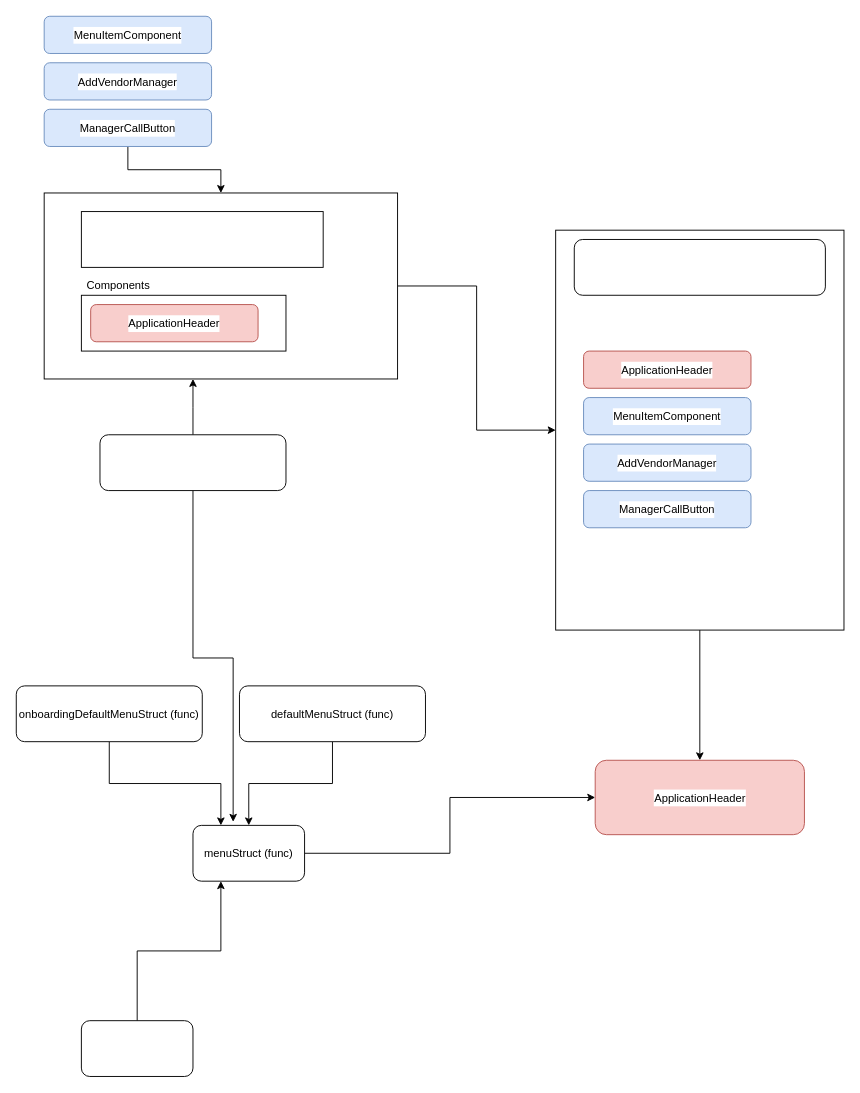
Image size: 860x1093. Some labels were removed from this diagram. The shapes that lost their labels are listed below. From the top down, each one's centre as x and y in pixels, then its label:
pixel 201 239: Модуль ApplicationHeaderModule
pixel 699 267: OnaApplicationHeaderModule
pixel 192 462: Конфиг Модуля
pixel 136 1048: необходимые конфигурации
